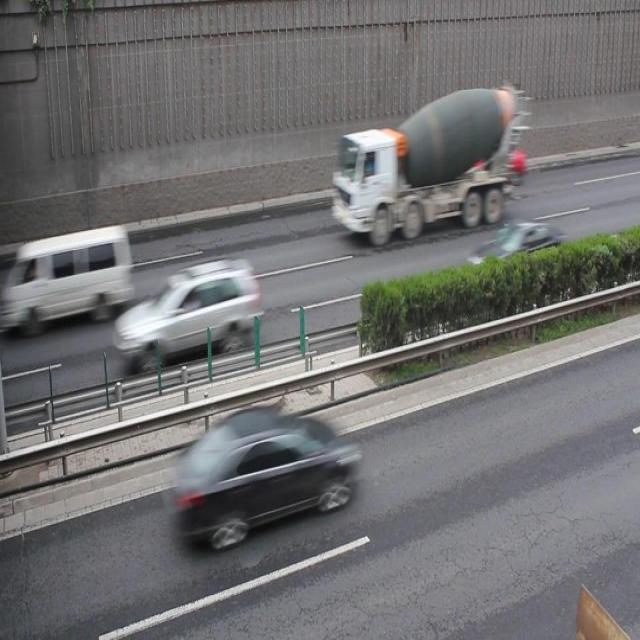bus: (333, 82, 516, 242)
car: (174, 401, 355, 546), (115, 257, 259, 366), (468, 218, 566, 296), (481, 139, 527, 186)
truck: (18, 227, 133, 322)
